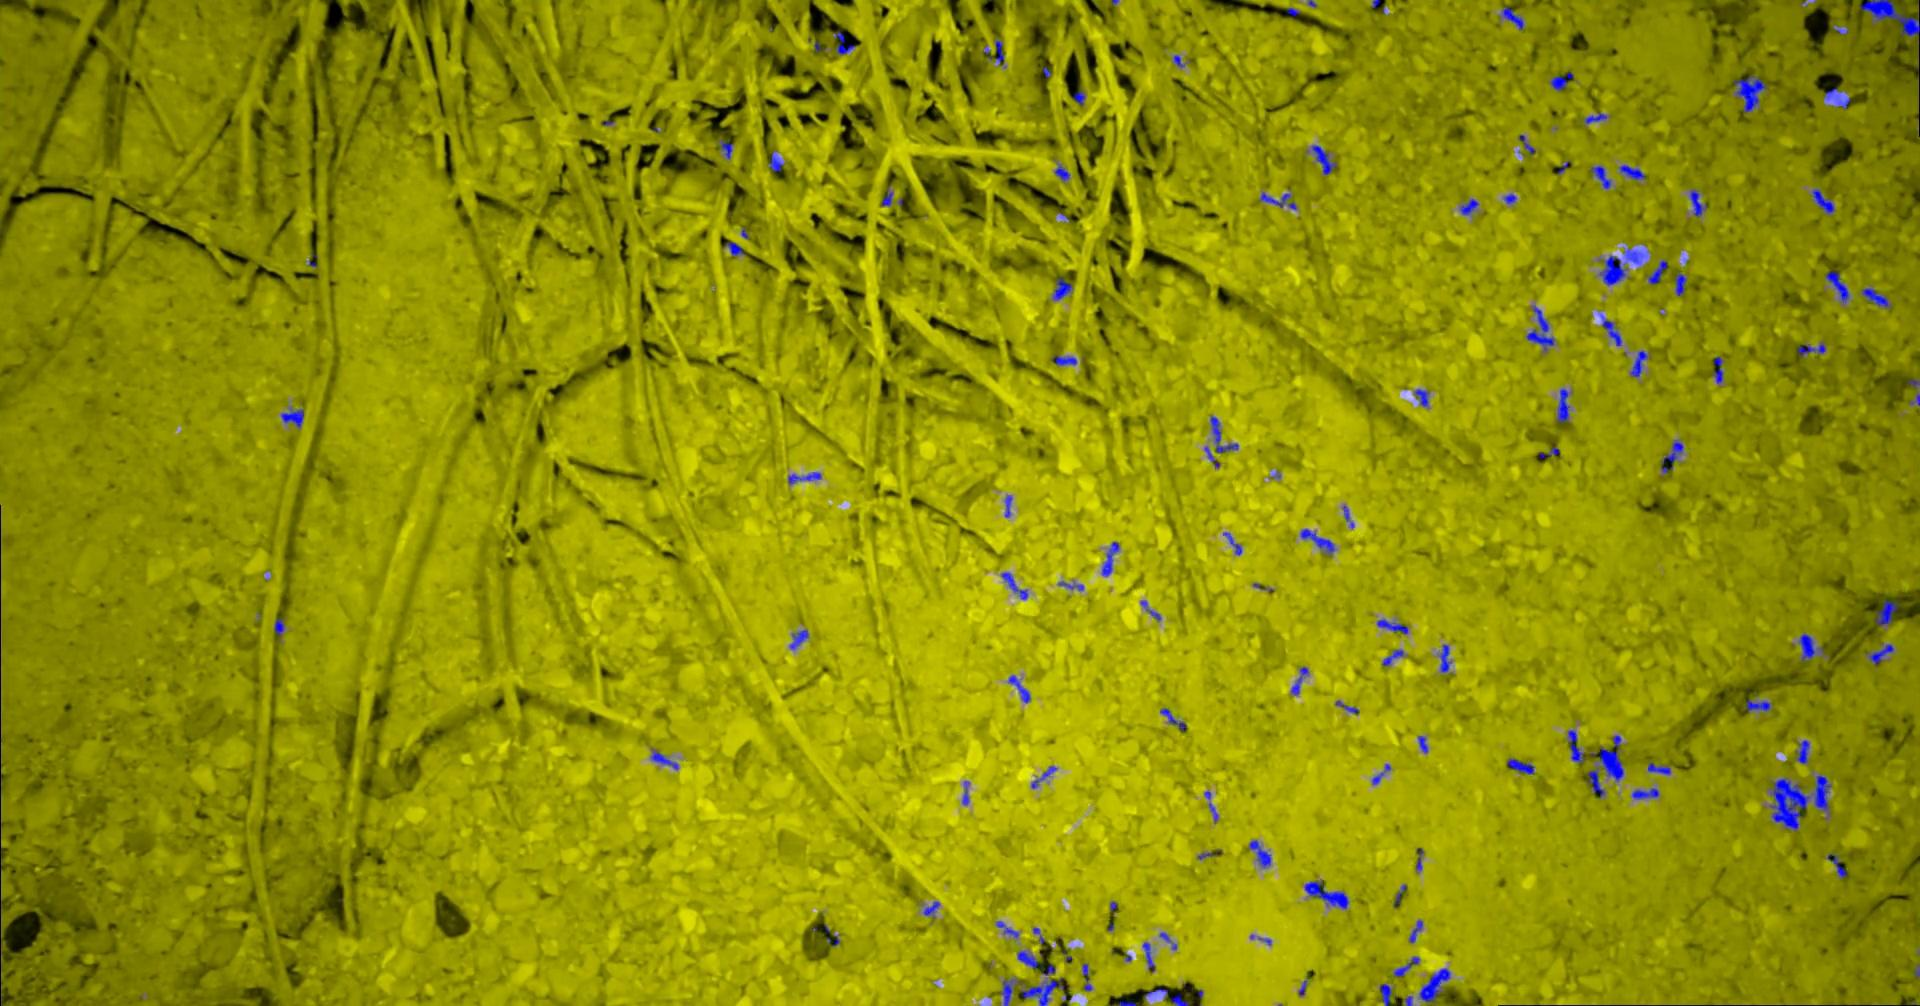ant: (1860, 0, 1919, 69), (1590, 735, 1623, 781), (1525, 305, 1554, 351), (1731, 75, 1766, 112), (1304, 880, 1349, 908), (1020, 977, 1063, 1005), (1418, 968, 1450, 1002), (1209, 415, 1238, 452), (1299, 528, 1335, 554), (1258, 188, 1297, 210), (1823, 271, 1849, 302), (1144, 987, 1189, 1005), (999, 572, 1027, 600), (1599, 255, 1625, 285), (1310, 144, 1336, 174), (1599, 312, 1622, 345), (1660, 439, 1683, 473), (1798, 633, 1823, 661), (1810, 188, 1834, 213), (1867, 643, 1893, 666), (1159, 708, 1186, 730), (1008, 674, 1030, 702), (1248, 840, 1270, 868), (1862, 287, 1891, 307), (1031, 765, 1057, 788), (1823, 86, 1850, 108), (1101, 541, 1117, 575), (1567, 729, 1583, 763), (1585, 767, 1604, 796), (982, 39, 1003, 65), (1876, 600, 1897, 625), (650, 749, 678, 768), (833, 30, 855, 55), (1647, 259, 1667, 285), (999, 978, 1018, 1005), (1290, 666, 1308, 694), (1501, 6, 1523, 29), (1589, 165, 1610, 188), (1393, 956, 1418, 976), (1556, 387, 1570, 422), (1051, 276, 1072, 298), (279, 408, 303, 427), (1827, 854, 1846, 878), (1017, 950, 1043, 968), (1689, 189, 1705, 216), (1549, 72, 1573, 90), (1377, 619, 1407, 633), (1506, 758, 1534, 774), (1630, 351, 1647, 376), (1140, 600, 1161, 620), (1222, 532, 1241, 554), (996, 920, 1018, 937), (787, 471, 822, 483), (1797, 343, 1825, 357), (1619, 164, 1644, 179), (789, 629, 808, 649), (1204, 791, 1217, 822), (1517, 133, 1535, 154), (1382, 649, 1403, 666), (1710, 356, 1723, 384), (1439, 644, 1451, 672), (1142, 942, 1154, 970), (1796, 739, 1810, 763), (1745, 699, 1770, 711), (1335, 700, 1357, 714), (1630, 788, 1658, 799), (1408, 920, 1422, 942), (1583, 111, 1606, 123), (1459, 198, 1478, 213), (1674, 272, 1686, 295), (768, 151, 782, 171), (1623, 249, 1643, 263), (1538, 446, 1559, 459), (1379, 983, 1392, 1005), (725, 241, 743, 257), (719, 138, 733, 158), (1415, 387, 1429, 406), (1647, 762, 1670, 774), (1054, 164, 1069, 180), (1051, 354, 1076, 365), (1082, 963, 1091, 989), (1058, 580, 1083, 589), (880, 185, 891, 205), (273, 617, 284, 636), (923, 901, 938, 915), (1073, 90, 1084, 105), (1004, 494, 1012, 517), (1417, 735, 1427, 752)
